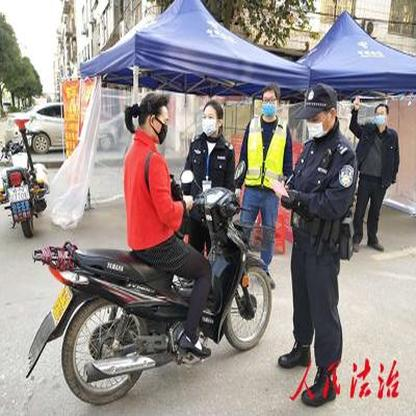target: (26, 94, 273, 406)
